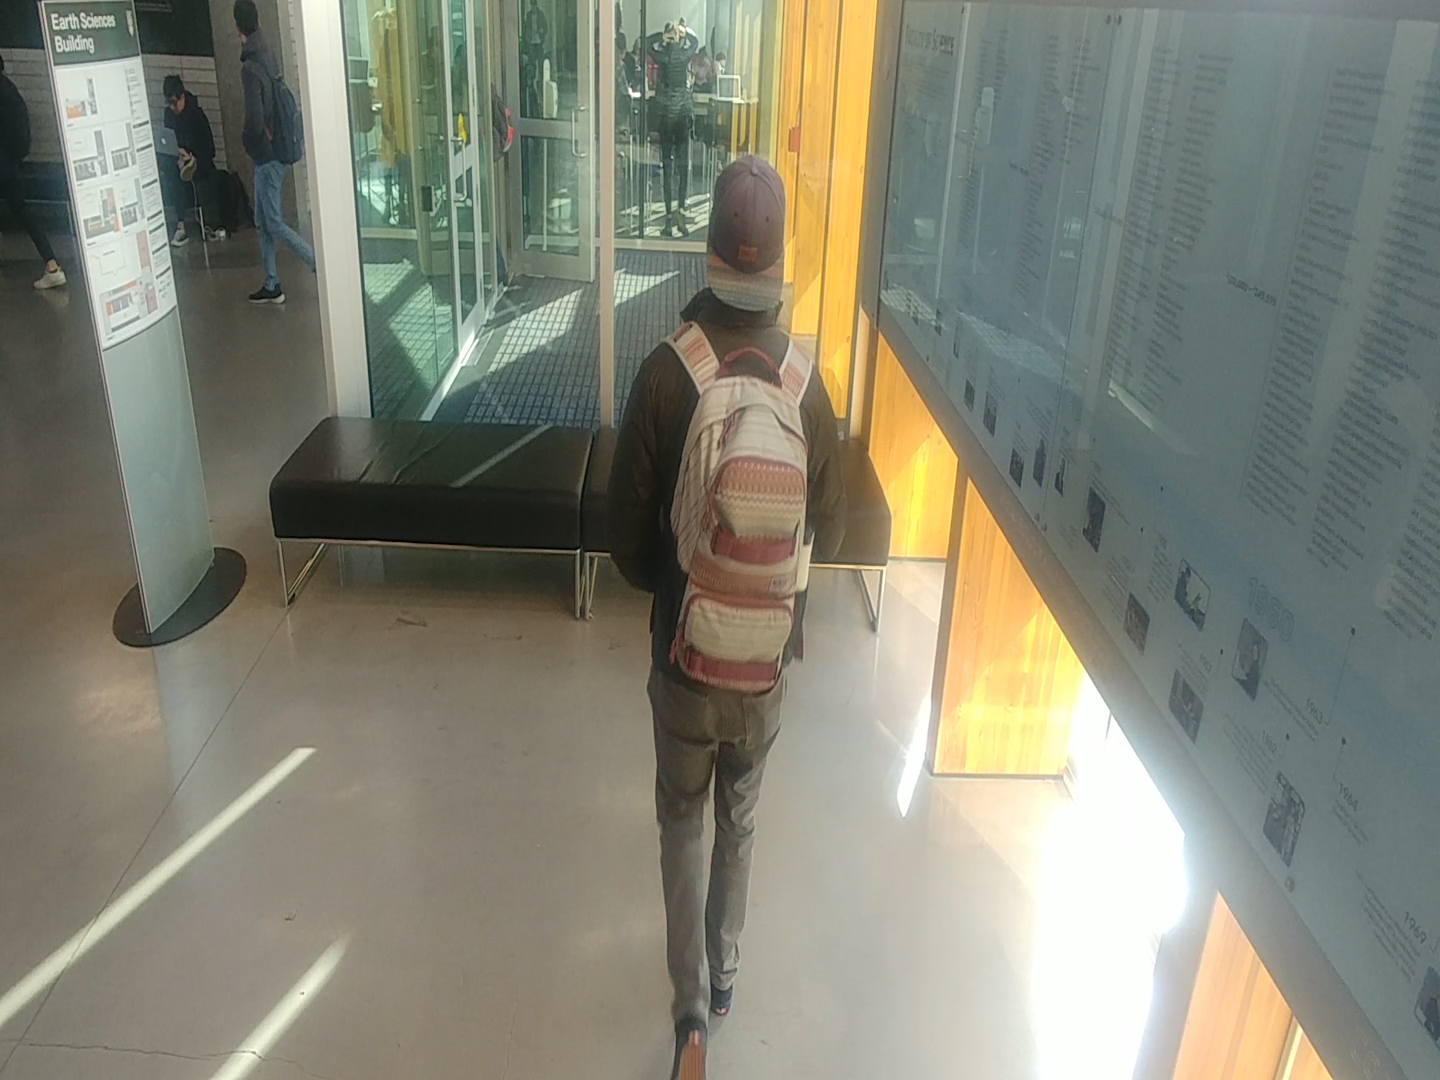face: (694, 146, 811, 333), (222, 0, 278, 54), (154, 63, 200, 118), (654, 20, 687, 61)
human: (592, 140, 872, 1080), (217, 0, 317, 319), (634, 11, 706, 247), (157, 52, 234, 265)
